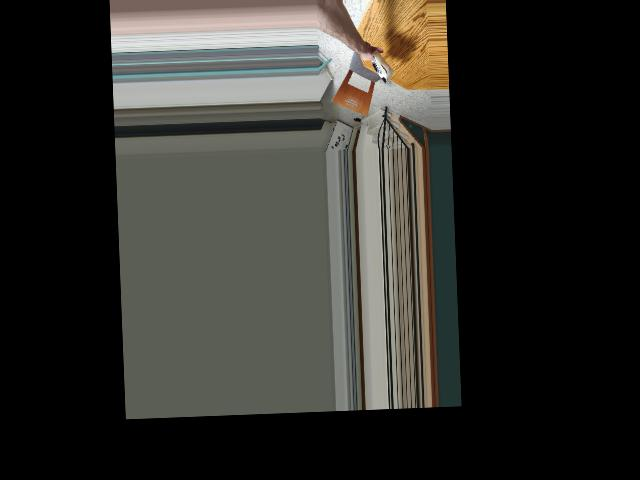cheese: (368, 48, 394, 84)
